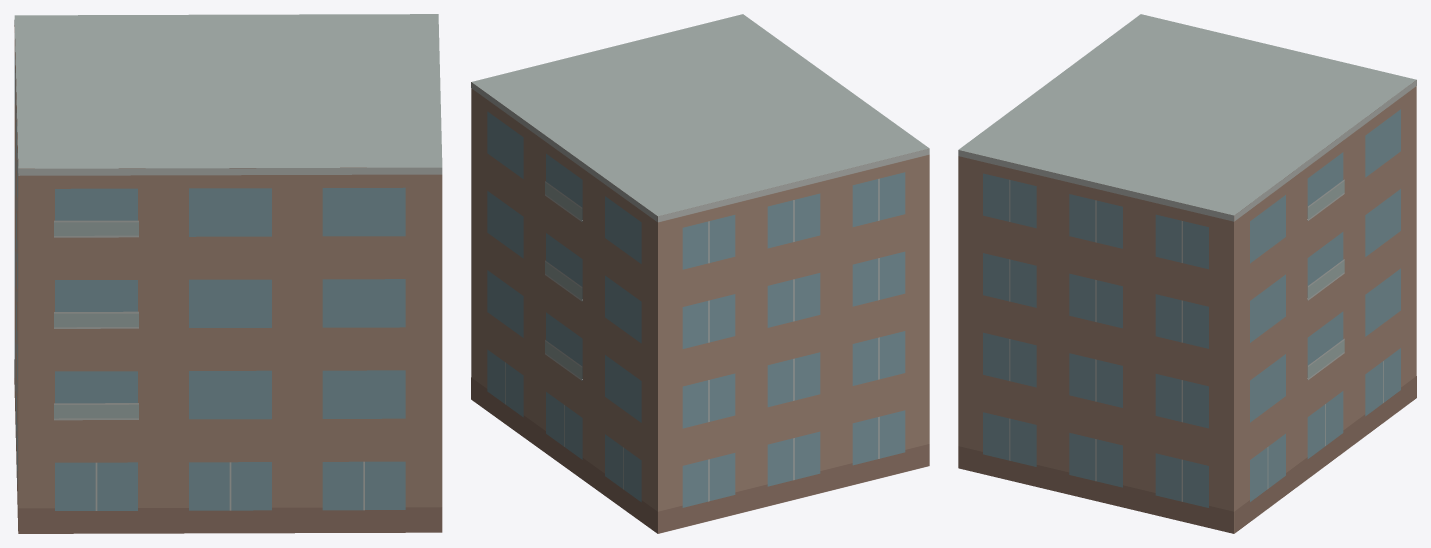
Rendered from survey-upis-32666456.glb.
3 views of the same model, side by side, from view 1: azimuth 30°, elevation 25°; view 2: azimuth 150°, elevation 25°; view 3: azimuth 270°, elevation 25° (orthographic). The views are drawn at different scales.
Parts seen in each view (by area): view 1: survey-upis-32666456.tmp; view 2: survey-upis-32666456.tmp; view 3: survey-upis-32666456.tmp.
Boxes of the visible parts, x1,y1,x2,y2 form: survey-upis-32666456.tmp: [14, 14, 442, 533]; survey-upis-32666456.tmp: [471, 14, 929, 533]; survey-upis-32666456.tmp: [958, 14, 1416, 533].
Size of the model in its own units: 17.12 by 12.6 by 16.45.
